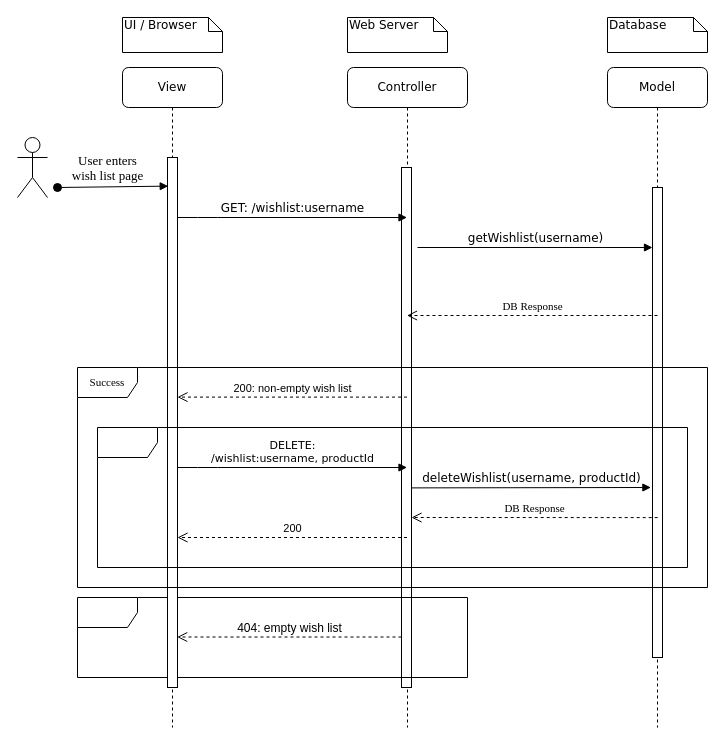
This 725x745 diagram has some shape labels left out. Here are the shapes that lost their labels. From the top down, the centre of each, then its label:
At point (32, 167): "Actor".
At point (392, 497): "Delete Product".
At point (272, 637): "Failed".
